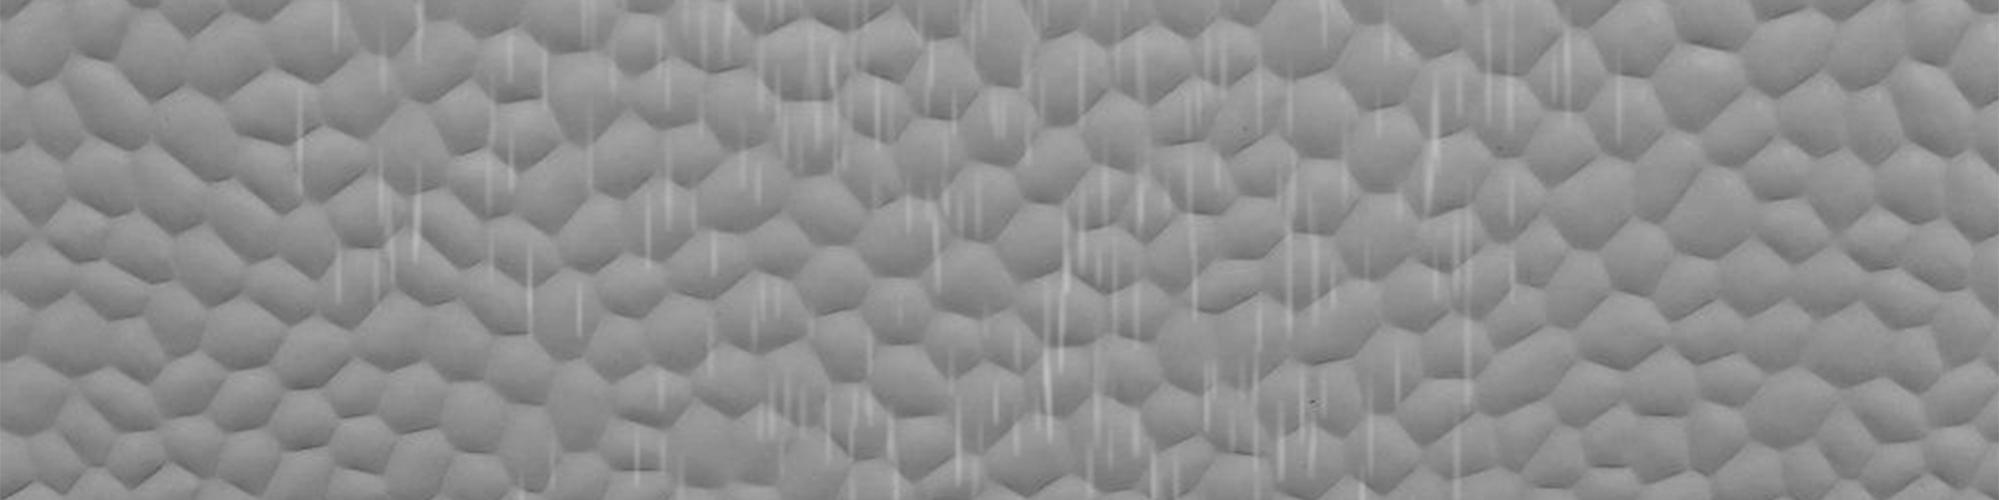Streaks: (1423, 173, 1481, 499), (864, 179, 994, 302), (1041, 184, 1089, 460), (1273, 159, 1341, 349), (1171, 143, 1230, 342), (932, 335, 985, 500), (481, 24, 523, 218), (1014, 3, 1060, 175), (1077, 381, 1145, 495), (1469, 3, 1522, 143), (1129, 41, 1161, 259), (745, 369, 809, 474), (1244, 287, 1274, 500), (800, 26, 844, 166), (1186, 15, 1237, 136), (1099, 144, 1126, 358), (849, 1, 885, 158), (644, 139, 681, 286), (1291, 351, 1332, 483), (365, 151, 399, 304), (626, 429, 700, 497), (989, 321, 1026, 457), (1131, 415, 1189, 500), (753, 45, 791, 171), (1348, 372, 1385, 494), (1545, 10, 1577, 139), (906, 3, 937, 128), (281, 82, 311, 207), (727, 121, 769, 209), (677, 5, 736, 68), (747, 267, 786, 362), (1421, 79, 1446, 221), (851, 318, 876, 458), (397, 159, 429, 270), (1070, 9, 1097, 140), (504, 446, 566, 500), (949, 3, 989, 83), (645, 15, 673, 128), (531, 3, 554, 128), (568, 115, 602, 198), (1608, 38, 1631, 157), (1196, 358, 1226, 446), (881, 395, 906, 500), (812, 384, 841, 468), (517, 244, 540, 346), (1369, 3, 1401, 75), (1273, 381, 1293, 494), (1278, 55, 1304, 143), (369, 26, 401, 96), (1224, 351, 1245, 459), (1105, 5, 1128, 99), (1506, 165, 1520, 318), (747, 5, 784, 59), (406, 6, 437, 68), (1381, 335, 1409, 403), (1358, 228, 1381, 310), (569, 6, 601, 65), (557, 278, 585, 344), (941, 85, 969, 151), (985, 75, 1005, 162), (642, 357, 673, 411), (703, 312, 728, 379), (321, 3, 356, 51), (1253, 33, 1267, 148), (594, 34, 619, 99), (1364, 83, 1386, 149), (1311, 3, 1335, 65), (1330, 124, 1357, 179), (477, 221, 500, 284), (677, 176, 702, 236), (690, 75, 710, 145), (702, 213, 721, 276), (1161, 154, 1173, 236), (838, 469, 871, 500), (332, 235, 346, 306), (1445, 69, 1464, 119), (805, 304, 820, 362)
